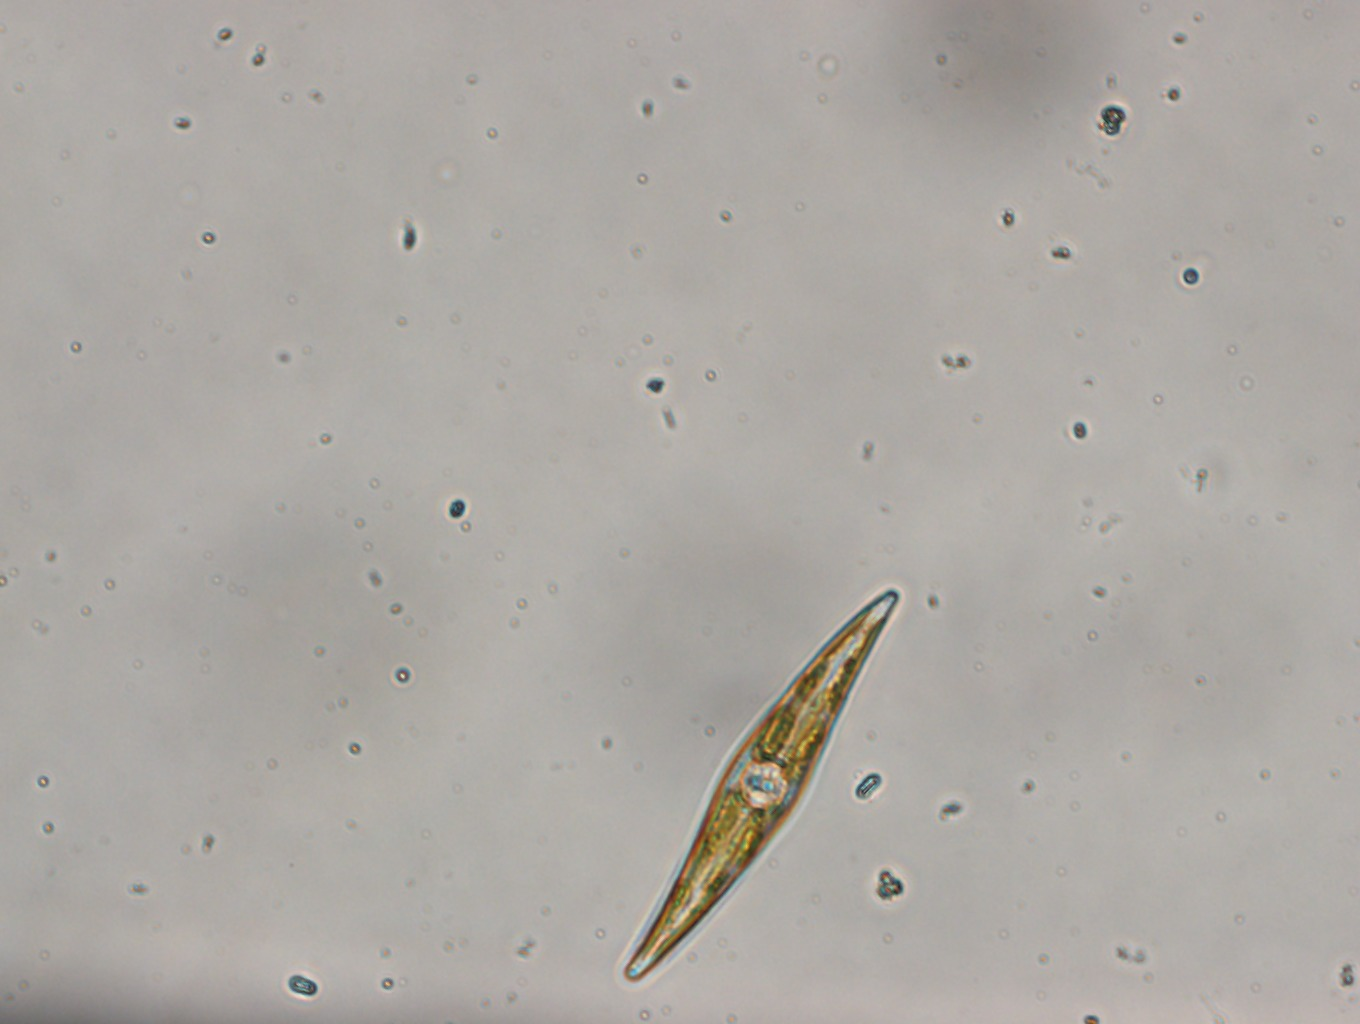pleurosigma pelagicum: (620, 582, 903, 984)
